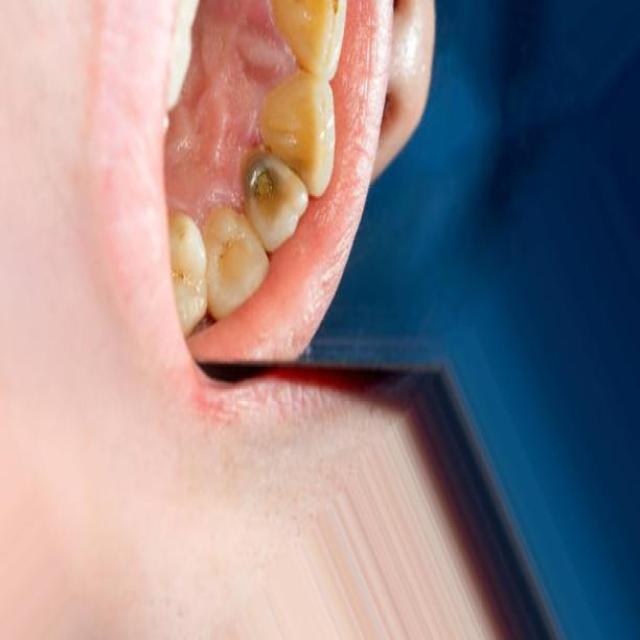caries: (241, 148, 281, 212)
